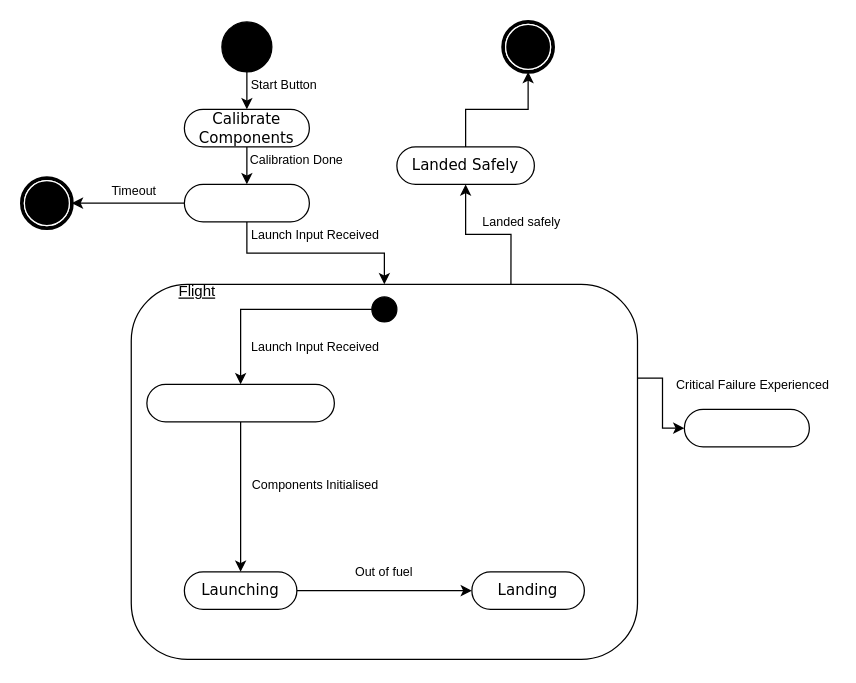
Image size: 856x683. Some labels were removed from this diagram. Each missing label, with the centre of its shape:
Await Instructions: the point at 246,202
Emergency Stop: the point at 746,427
Initialise System: the point at 240,402
